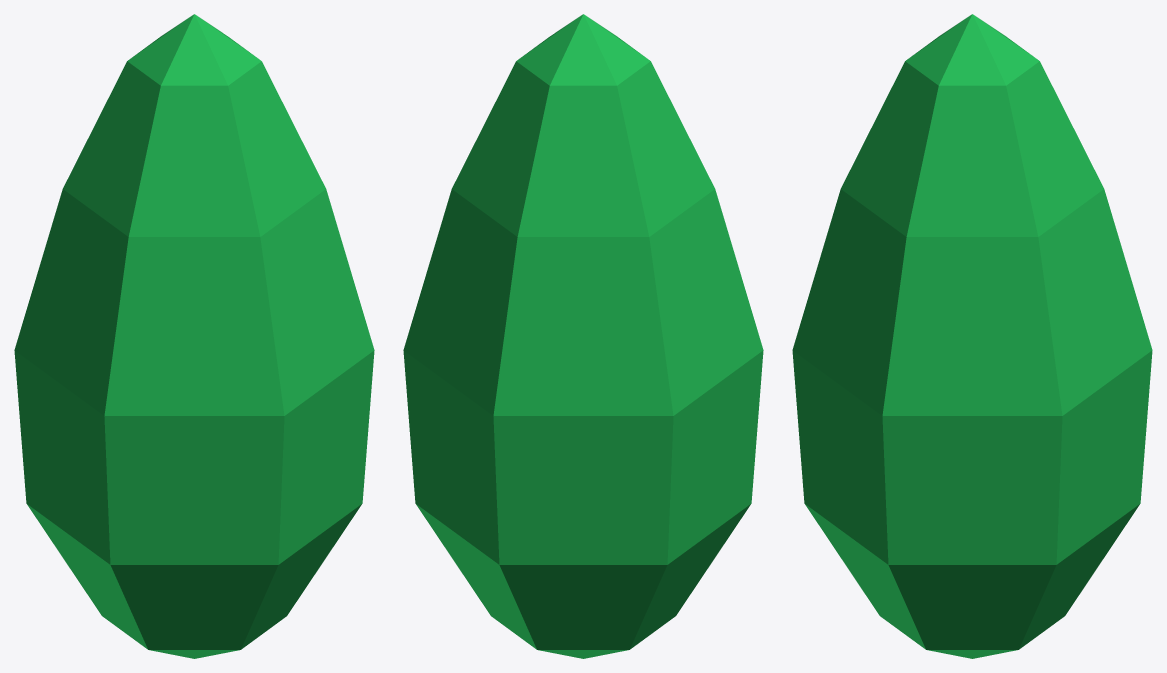
File: tree.fbx
3 renders of one model, left to right at view 1: azimuth 30°, elevation 25°; view 2: azimuth 150°, elevation 25°; view 3: azimuth 270°, elevation 25°, orthographic.
Visible parts, largest first — view 1: Sphere; view 2: Sphere; view 3: Sphere.
Boxes of the visible parts, <box> form: Sphere: <box>14,14,374,658</box>; Sphere: <box>403,14,763,658</box>; Sphere: <box>792,14,1152,658</box>.
Size of the model in its own units: 24.1 by 55 by 27.82.
